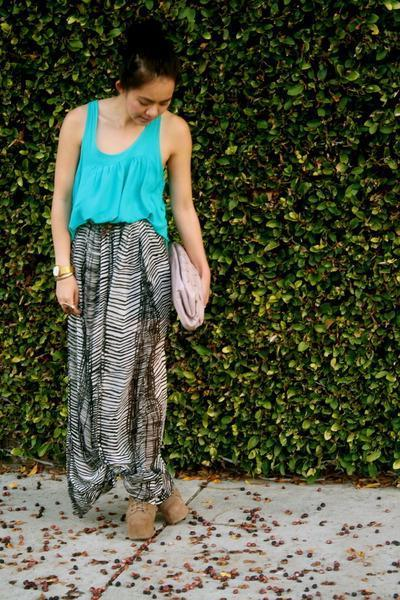trousers: (54, 220, 185, 509)
vest: (69, 106, 172, 232)
